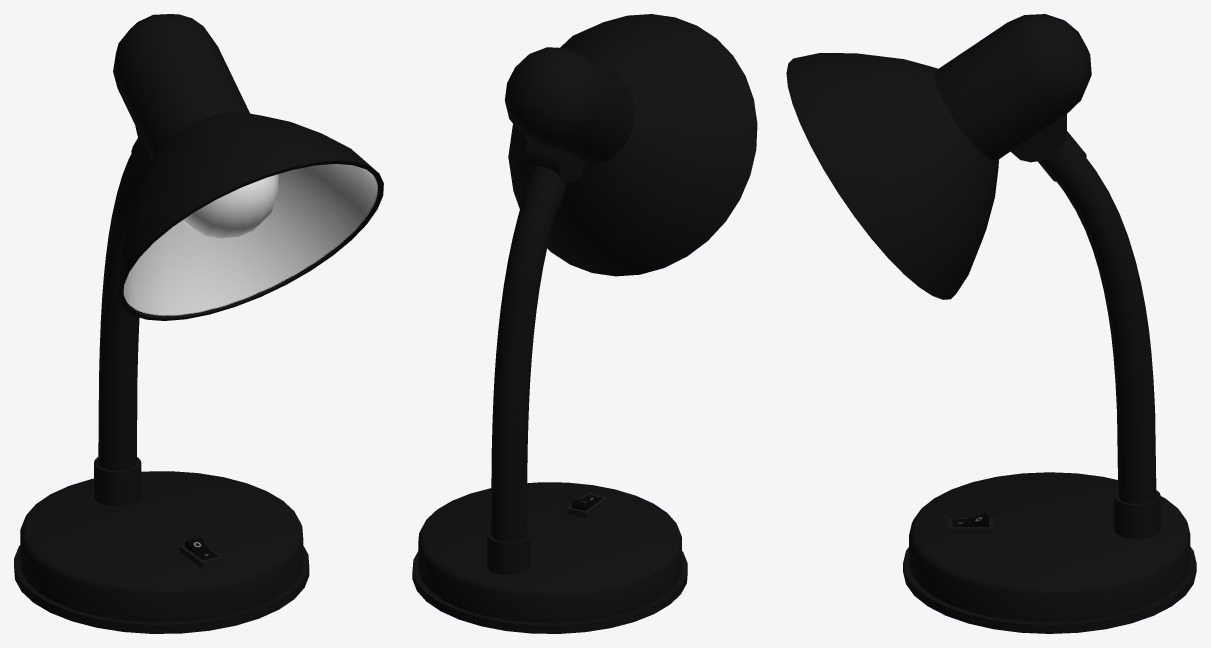
Rendered from uploads_files_6364571_lamp.fbx.
3 views of the same model, side by side, from view 1: azimuth 30°, elevation 25°; view 2: azimuth 150°, elevation 25°; view 3: azimuth 270°, elevation 25° (orthographic). The views are drawn at different scales.
Visible parts, largest first — view 1: lamp; view 2: lamp; view 3: lamp.
Boxes of the visible parts, x1,y1,x2,y2 form: lamp: [14, 14, 383, 633]; lamp: [412, 14, 757, 633]; lamp: [786, 14, 1196, 633].
Size of the model in its own units: 16.7 by 34.73 by 23.34.
